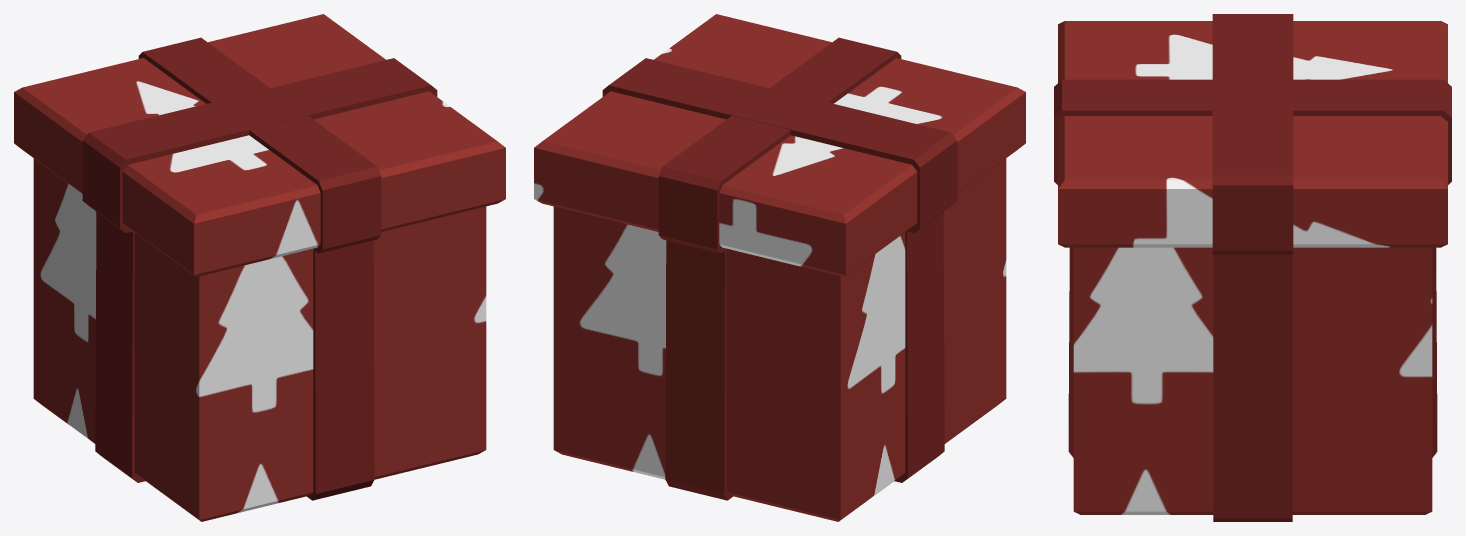
The model's file is PresentBox_SquareMedium_01.fbx.
3 renders of one model, left to right at view 1: azimuth 30°, elevation 25°; view 2: azimuth 150°, elevation 25°; view 3: azimuth 270°, elevation 25°, orthographic. The views are drawn at different scales.
Parts seen in each view (by area): view 1: PresentBox_SquareMedium_01, PresentBox_SquareMedium_01_Top; view 2: PresentBox_SquareMedium_01, PresentBox_SquareMedium_01_Top; view 3: PresentBox_SquareMedium_01, PresentBox_SquareMedium_01_Top.
Part boxes in pixels (box(x1,y1,x2,y2)): PresentBox_SquareMedium_01: box(33, 158, 486, 521); PresentBox_SquareMedium_01_Top: box(14, 14, 505, 276); PresentBox_SquareMedium_01: box(553, 158, 1006, 521); PresentBox_SquareMedium_01_Top: box(534, 14, 1025, 276); PresentBox_SquareMedium_01: box(1068, 247, 1437, 521); PresentBox_SquareMedium_01_Top: box(1054, 14, 1451, 254).
Size of the model in its own units: 0.253 by 0.2487 by 0.2538.
